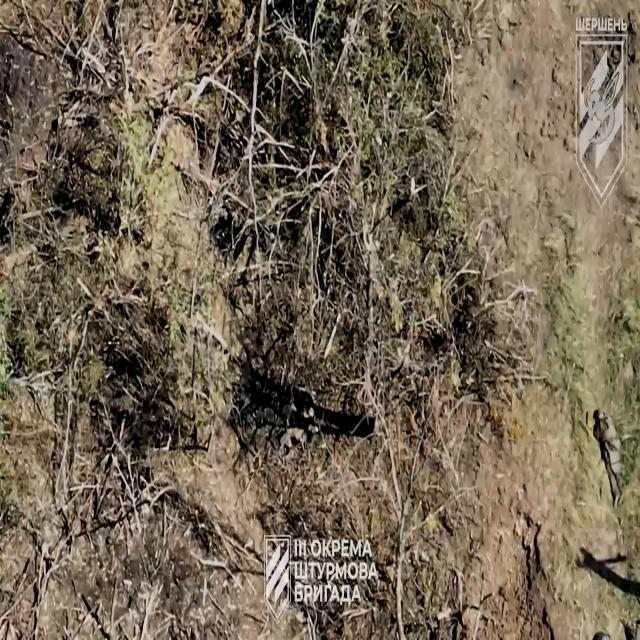MIL_Pax: (594, 409, 622, 506)
